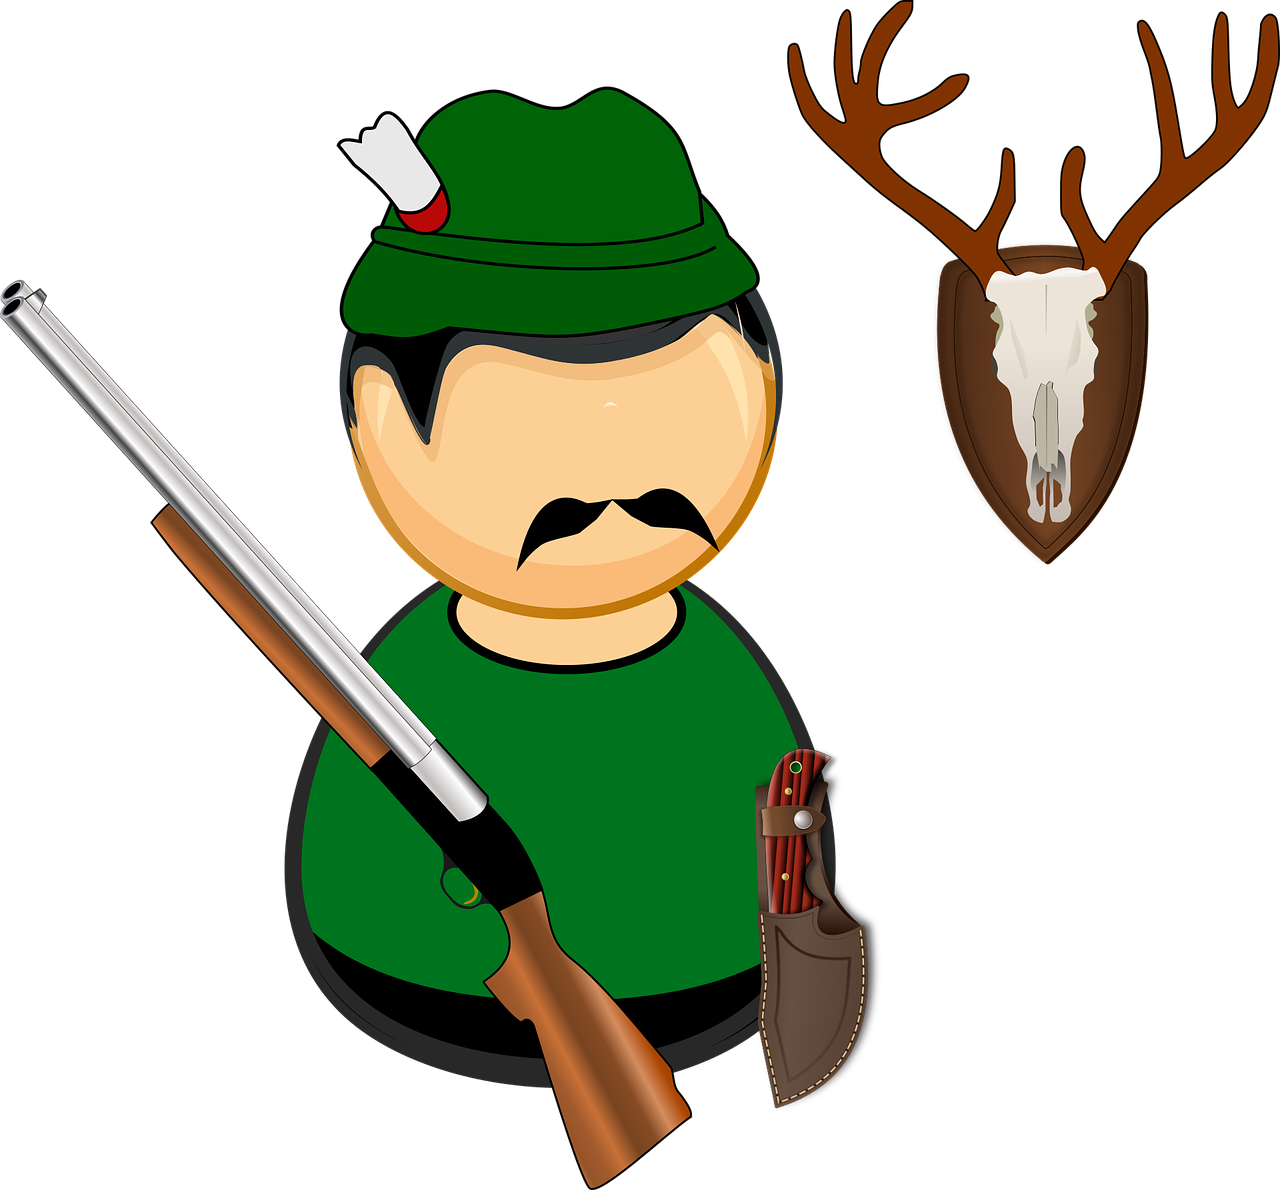gun: (0, 272, 707, 1182)
knife: (750, 739, 879, 1109)
